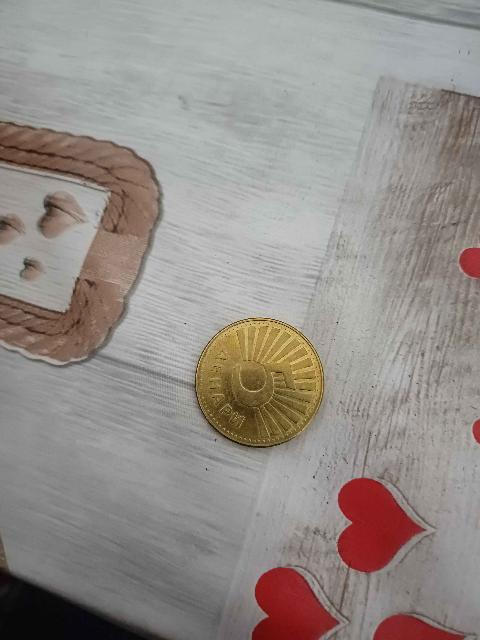coin: (196, 319, 323, 446)
